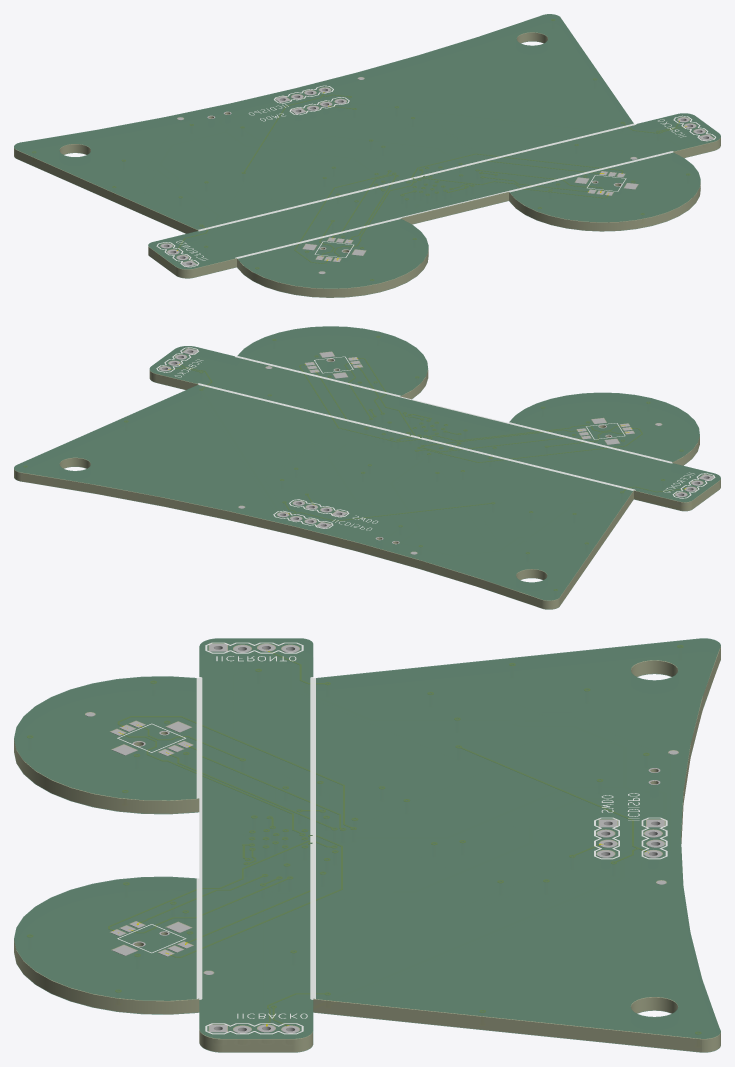
File: bsidespdx-2017-bmd-300-badge.glb
3 views of the same model, one above another, from view 1: azimuth 30°, elevation 25°; view 2: azimuth 150°, elevation 25°; view 3: azimuth 270°, elevation 25° (orthographic). The views are drawn at different scales.
Visible parts, largest first — view 1: =>[0:1:1:9], =>[0:1:1:7], =>[0:1:1:5], =>[0:1:1:2]; view 2: =>[0:1:1:9], =>[0:1:1:7], =>[0:1:1:5], =>[0:1:1:2]; view 3: =>[0:1:1:9], =>[0:1:1:7], =>[0:1:1:2], =>[0:1:1:5].
Boxes of the visible parts, left/top/right/bottom form: =>[0:1:1:9]: left=14, top=15, right=720, bottom=297; =>[0:1:1:7]: left=14, top=14, right=720, bottom=297; =>[0:1:1:5]: left=156, top=85, right=715, bottom=267; =>[0:1:1:2]: left=32, top=19, right=713, bottom=280; =>[0:1:1:9]: left=14, top=327, right=720, bottom=609; =>[0:1:1:7]: left=14, top=326, right=720, bottom=609; =>[0:1:1:5]: left=156, top=347, right=715, bottom=530; =>[0:1:1:2]: left=24, top=336, right=713, bottom=590; =>[0:1:1:9]: left=14, top=639, right=720, bottom=1052; =>[0:1:1:7]: left=14, top=638, right=720, bottom=1052; =>[0:1:1:2]: left=27, top=644, right=700, bottom=1033; =>[0:1:1:5]: left=117, top=642, right=667, bottom=1034.
Size of the model in its own units: 0.1 by 0.00166 by 0.0746.
Materials: 4 (4 with a texture image).
